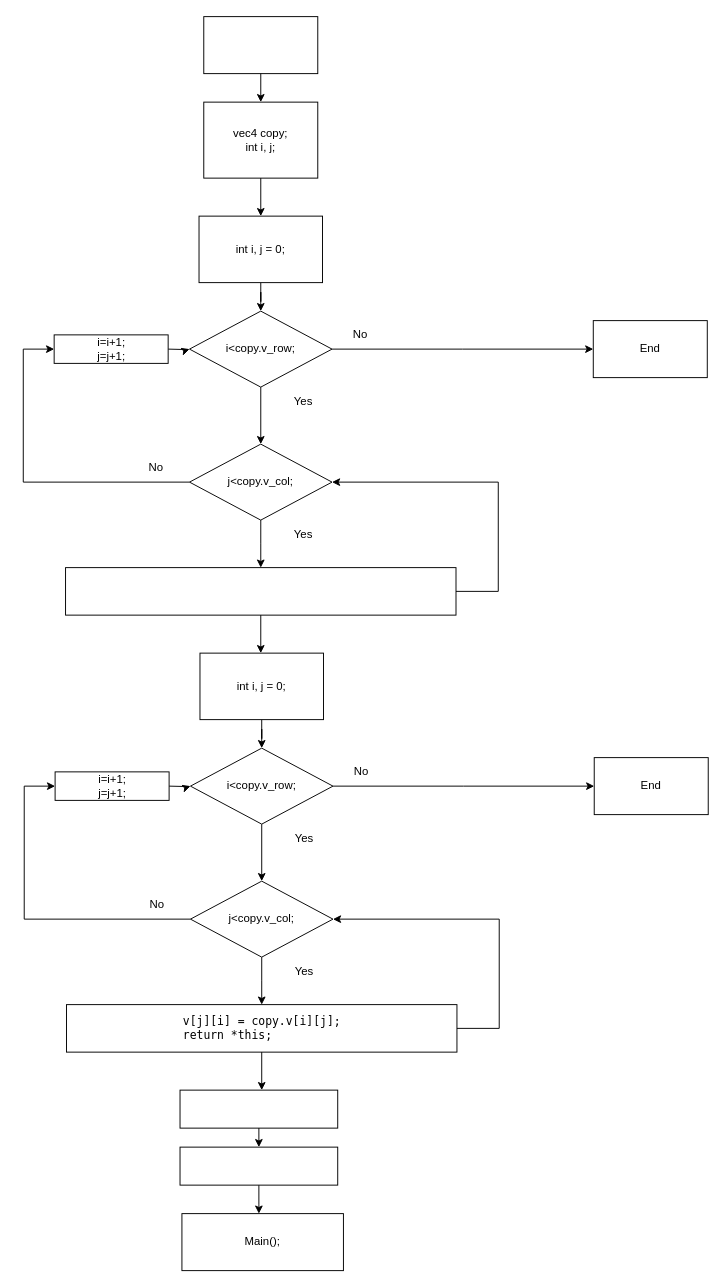
Image size: 725x1287. Some labels were removed from this diagram. Each missing label, with the centre of its shape:
copy.v[i][j] = v[i][j];: point 260,591
cout << " ";: point 258,1165
Park(): point 258,1108
vec4 vec4::transpose(): point 260,45
